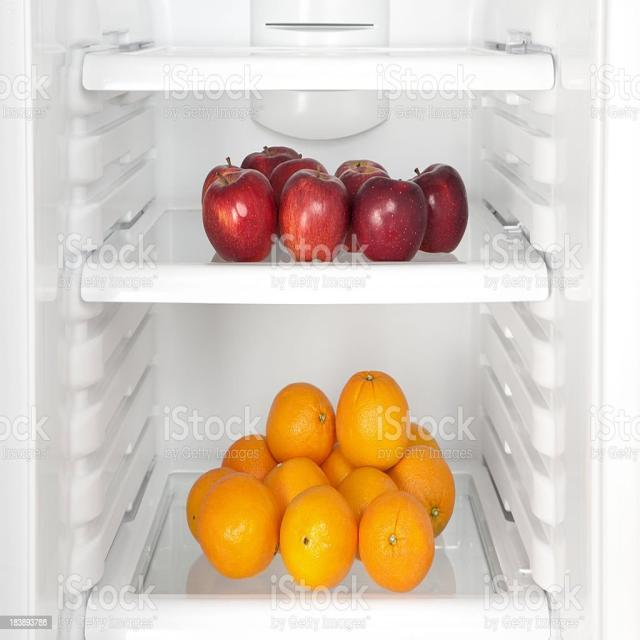Orange: (186, 369, 455, 592), (357, 489, 434, 592), (334, 369, 409, 469)
